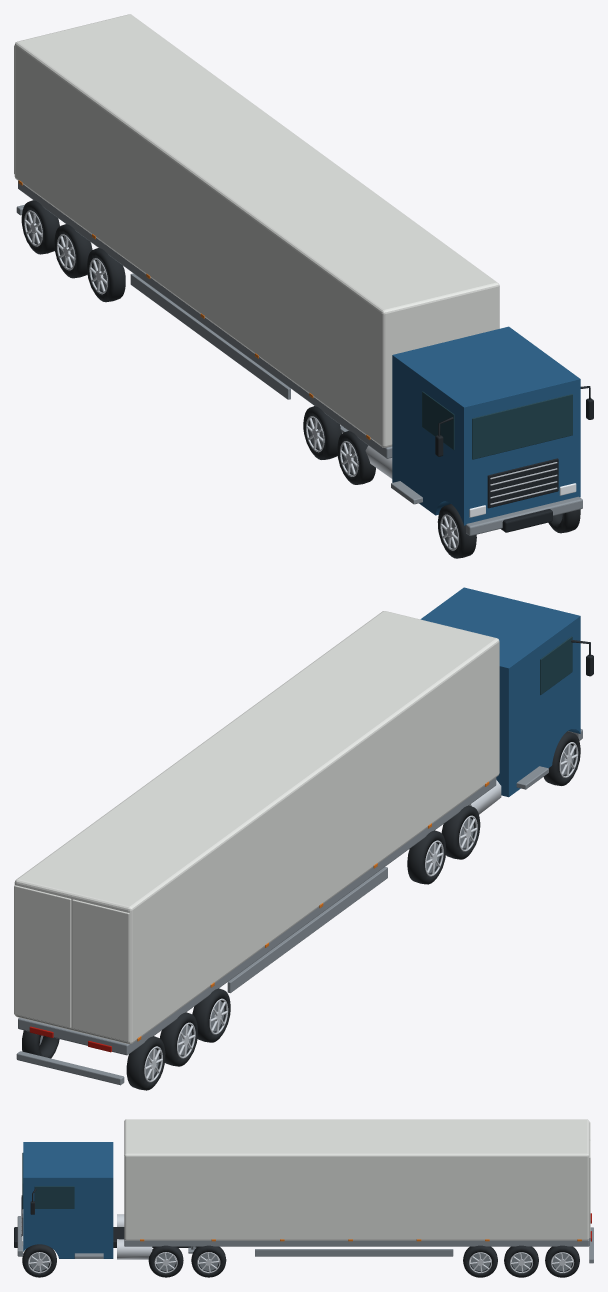
The model's file is truck-lod0.glb.
The picture shows the model from 3 angles, top to bottom: view 1: azimuth 30°, elevation 25°; view 2: azimuth 150°, elevation 25°; view 3: azimuth 270°, elevation 25°; orthographic projection. The views are drawn at different scales.
Visible parts, largest first — view 1: body_white, body_blue, body_steel, wheelpart_rubber (×6), body_glass, body_black, body_chrome; view 2: body_white, body_blue, body_steel, wheelpart_rubber (×7), body_glass; view 3: body_white, body_blue, body_steel, wheelpart_rubber (×6), wheelpart_chrome (×6), body_glass, body_chrome, body_black.
Boxes of the visible parts, x1=… form: body_white: x1=14, y1=14, x2=499, y2=447; body_blue: x1=392, y1=326, x2=580, y2=525; body_steel: x1=16, y1=181, x2=582, y2=535; wheelpart_rubber (×6): x1=21, y1=200, x2=476, y2=558; body_glass: x1=422, y1=391, x2=572, y2=459; body_black: x1=435, y1=386, x2=593, y2=532; body_chrome: x1=365, y1=445, x2=557, y2=504; body_white: x1=14, y1=611, x2=499, y2=1044; body_blue: x1=420, y1=587, x2=580, y2=797; body_steel: x1=16, y1=729, x2=582, y2=1085; wheelpart_rubber (×7): x1=22, y1=731, x2=580, y2=1090; body_glass: x1=540, y1=636, x2=572, y2=694; body_white: x1=124, y1=1119, x2=590, y2=1240; body_blue: x1=23, y1=1142, x2=113, y2=1258; body_steel: x1=17, y1=1216, x2=593, y2=1263; wheelpart_rubber (×6): x1=22, y1=1244, x2=579, y2=1277; wheelpart_chrome (×6): x1=28, y1=1252, x2=574, y2=1273; body_glass: x1=22, y1=1153, x2=74, y2=1208; body_chrome: x1=21, y1=1197, x2=152, y2=1259; body_black: x1=14, y1=1188, x2=197, y2=1247.
Bounding box in the file's own units: 3.33 × 4 × 17.
